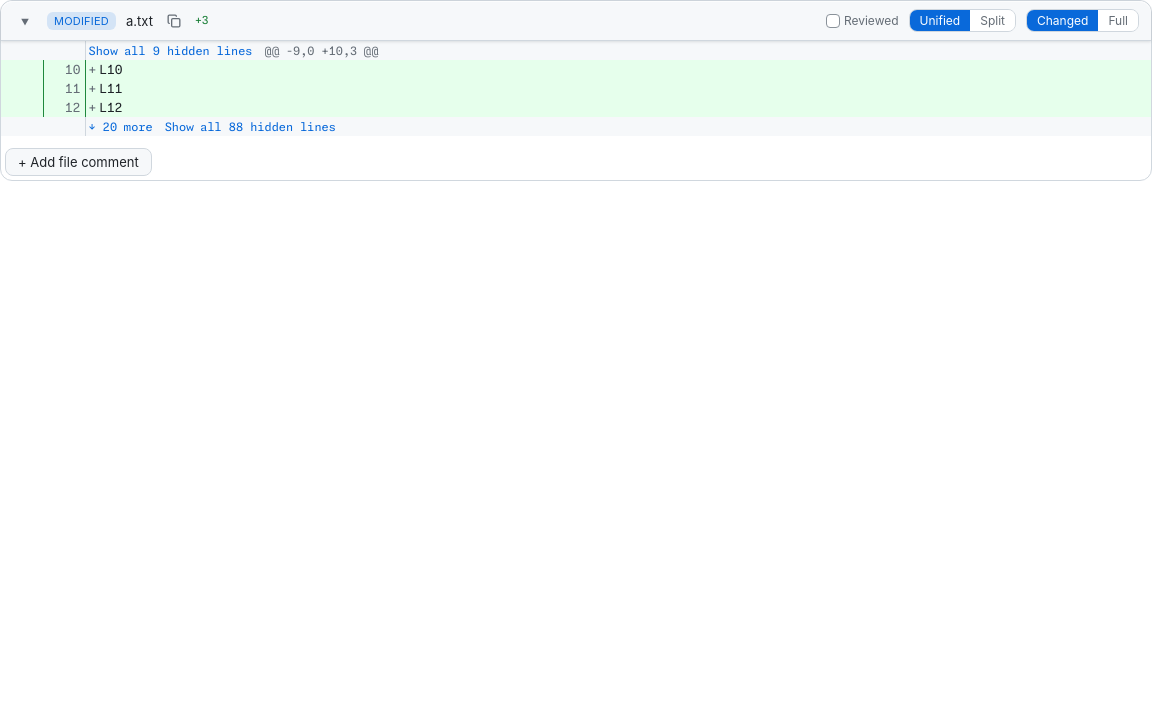
Test: a revealed line carries the old-side number its region runs at
Click the button "↓ 20 more".
click(121, 126)  # box [88, 117, 153, 136]
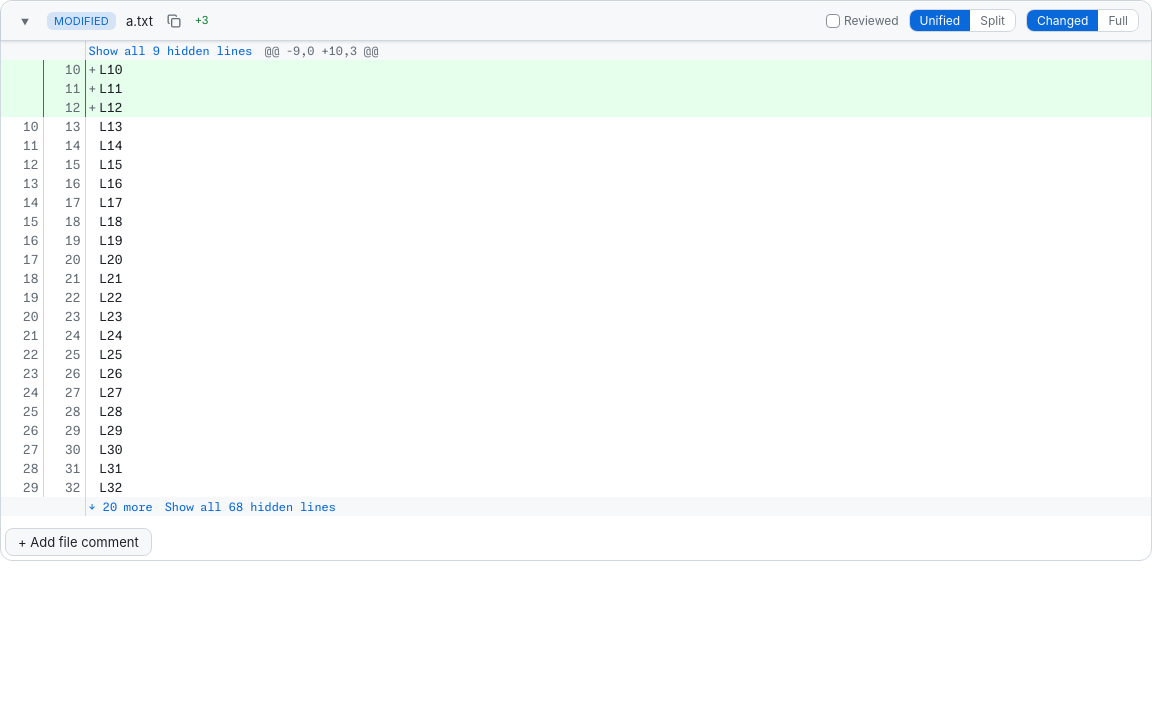
Expected: the cell with class "gutter" in the row of "L13" reads "10", [23, 119, 38, 134]
Expected: the cell with class "gutter" next to "L13" reads "13", [65, 119, 80, 134]
